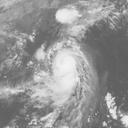cyclone: (36, 41, 97, 102)
